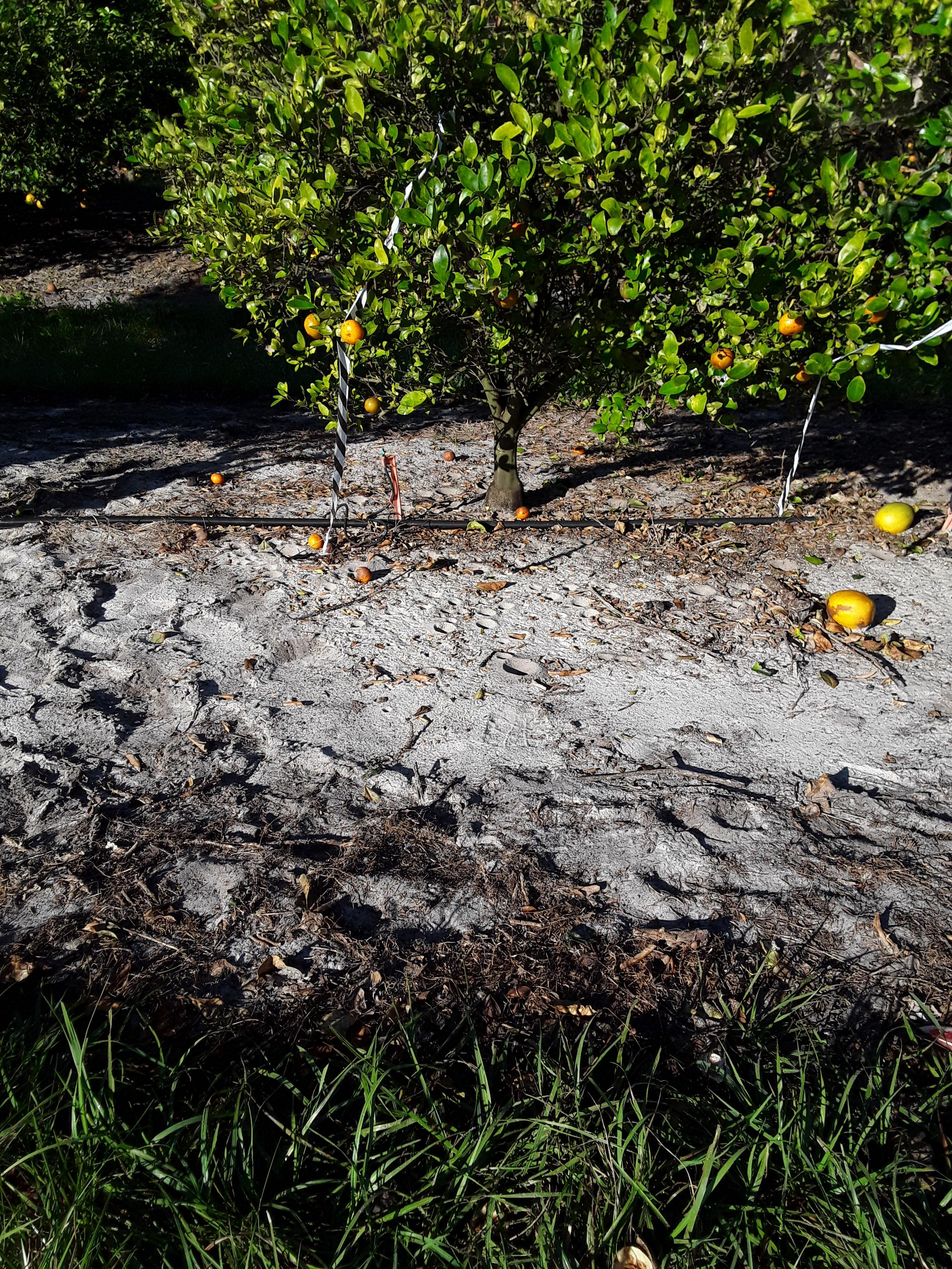fruit_on_ground: (859, 294, 890, 323), (339, 315, 364, 348), (492, 282, 520, 311), (776, 310, 802, 339), (854, 350, 879, 378), (301, 309, 324, 339), (614, 274, 639, 300), (707, 344, 730, 372), (364, 395, 383, 418), (509, 219, 525, 239), (764, 182, 780, 201), (24, 188, 39, 206)
fruit_on_tree: (831, 582, 876, 633), (877, 497, 915, 540), (891, 635, 918, 663), (904, 149, 924, 173), (192, 525, 215, 543), (354, 566, 371, 587), (306, 530, 324, 549), (797, 366, 814, 386), (846, 123, 863, 141), (518, 505, 534, 524), (574, 441, 588, 456), (442, 447, 455, 462), (210, 471, 223, 486)
